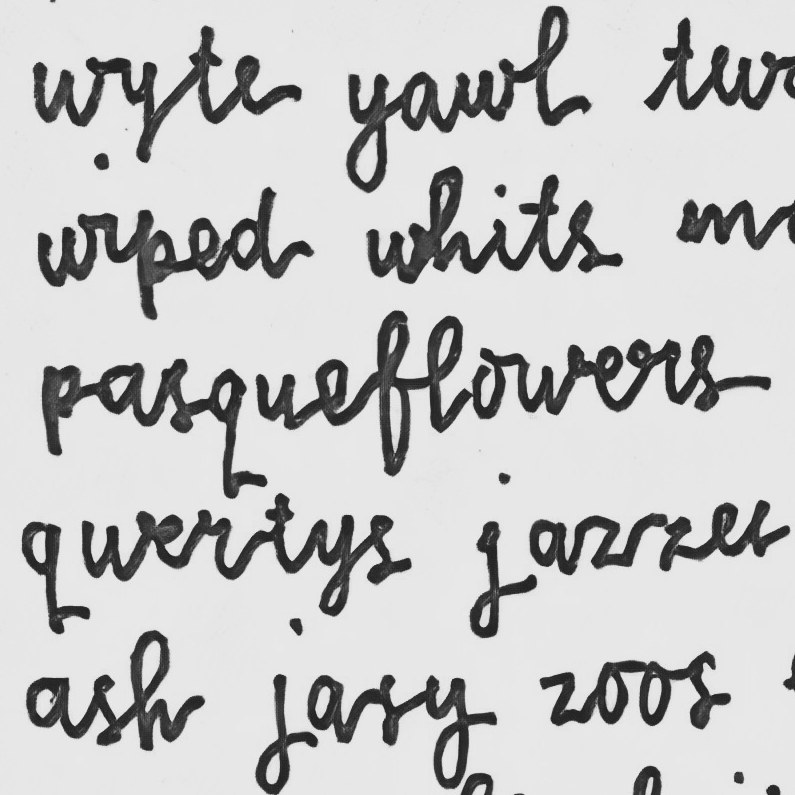a: (94, 358, 147, 430)
e: (313, 356, 357, 430), (589, 342, 625, 413)
f: (371, 308, 415, 478)
l: (424, 313, 466, 435)
o: (469, 345, 508, 423)
p: (37, 359, 84, 458)
q: (205, 365, 250, 502)
r: (625, 335, 684, 410)
s: (157, 353, 197, 437), (686, 332, 721, 413)
u: (253, 369, 299, 431)
w: (513, 341, 587, 419)
